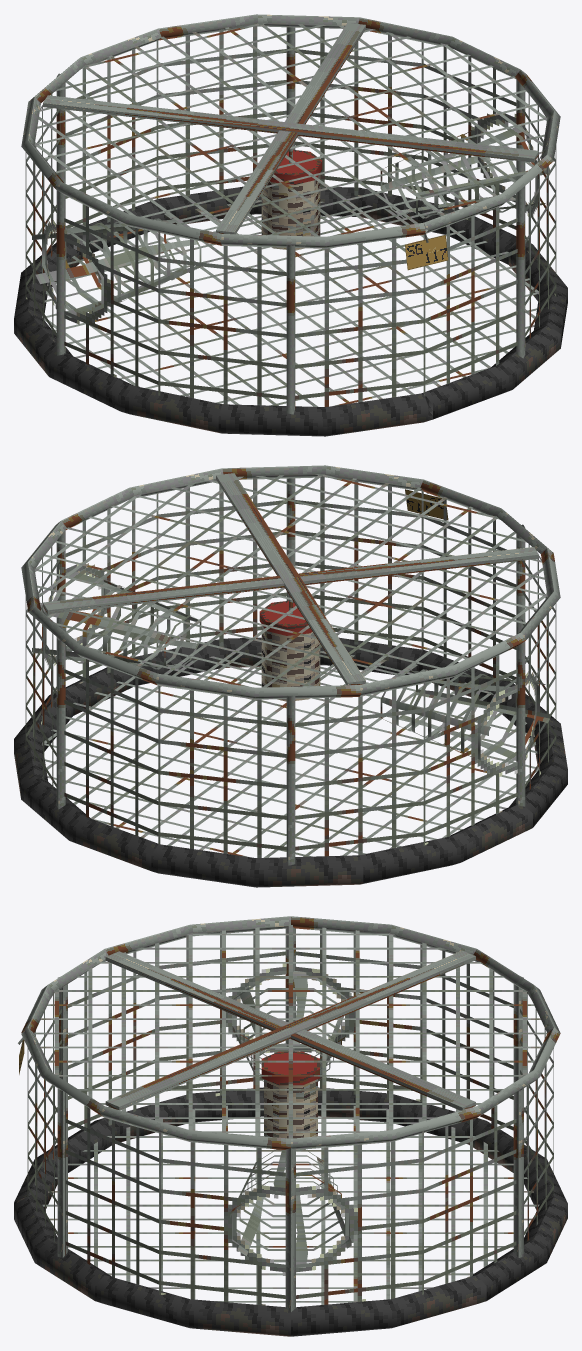
Rendered from crab_pot_wire.glb.
3 views of the same model, one above another, from view 1: azimuth 30°, elevation 25°; view 2: azimuth 150°, elevation 25°; view 3: azimuth 270°, elevation 25° (orthographic).
Visible parts, largest first — view 1: crab_pot_wire; view 2: crab_pot_wire; view 3: crab_pot_wire.
Boxes of the visible parts, x1,y1,x2,y2 form: crab_pot_wire: (14, 14, 567, 436); crab_pot_wire: (14, 465, 567, 887); crab_pot_wire: (14, 916, 567, 1336).
Size of the model in its own units: 0.7581 by 0.299 by 0.7577.
Materials: 1 (1 with a texture image).
